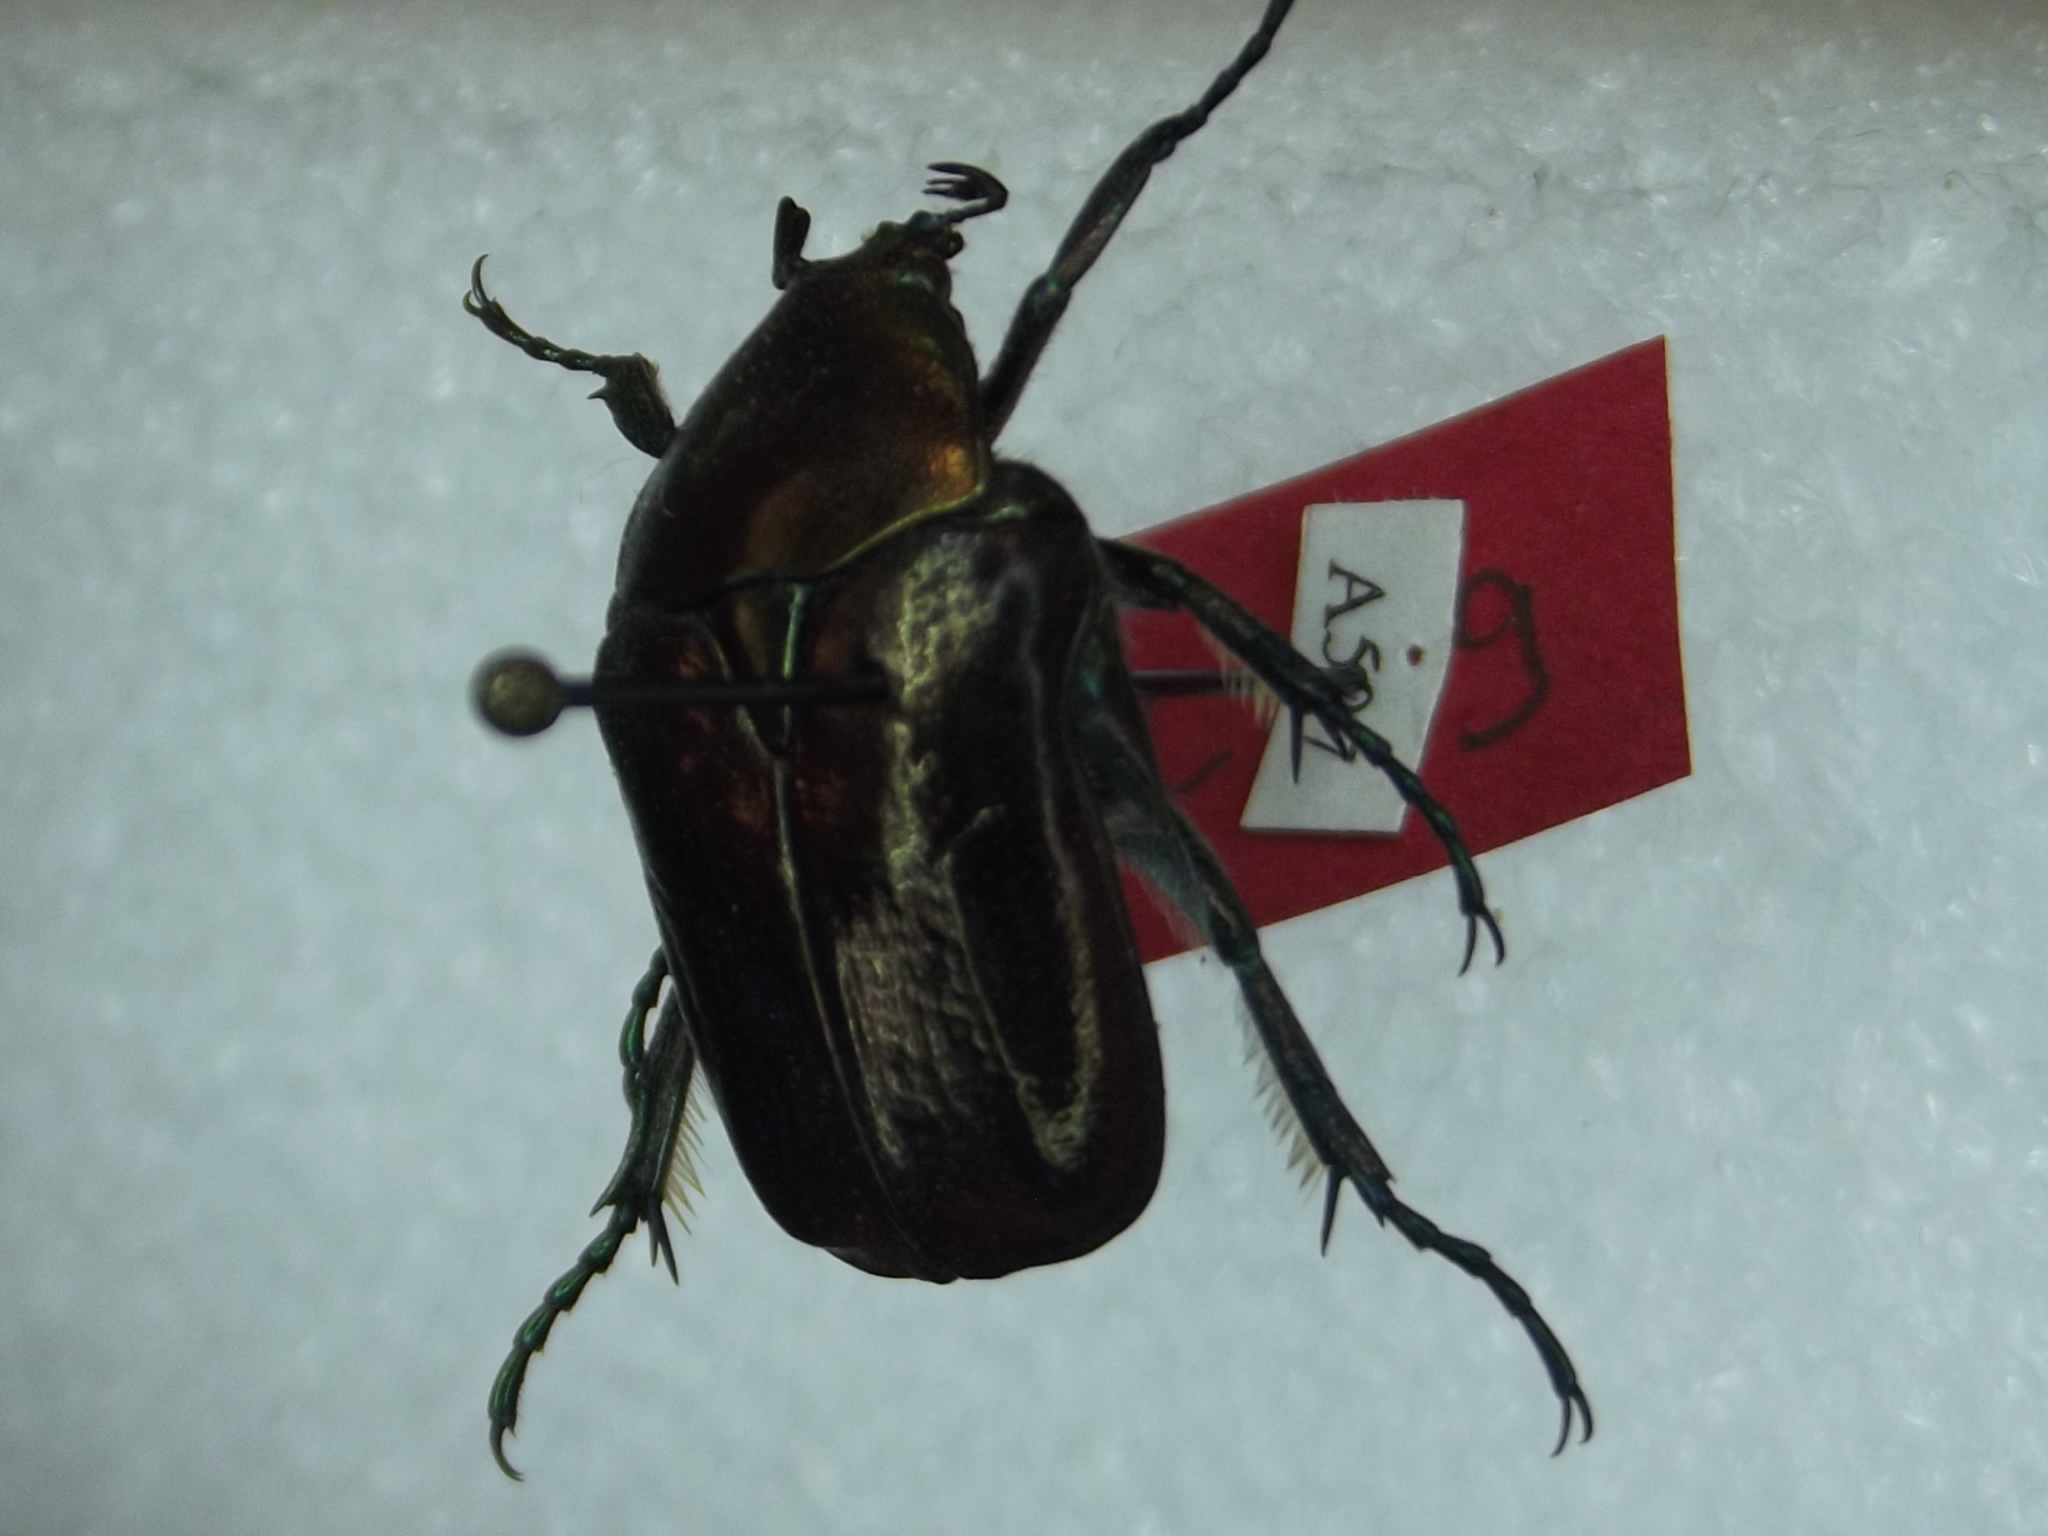Protaetia_besucheti: (411, 6, 1634, 1518)
